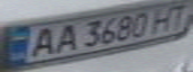0: (130, 9, 157, 38)
3: (78, 17, 103, 48)
6: (100, 15, 121, 44)
8: (115, 12, 139, 42)
A: (18, 25, 63, 58), (48, 21, 81, 54)
H: (145, 4, 181, 34)
T: (163, 1, 193, 30)
